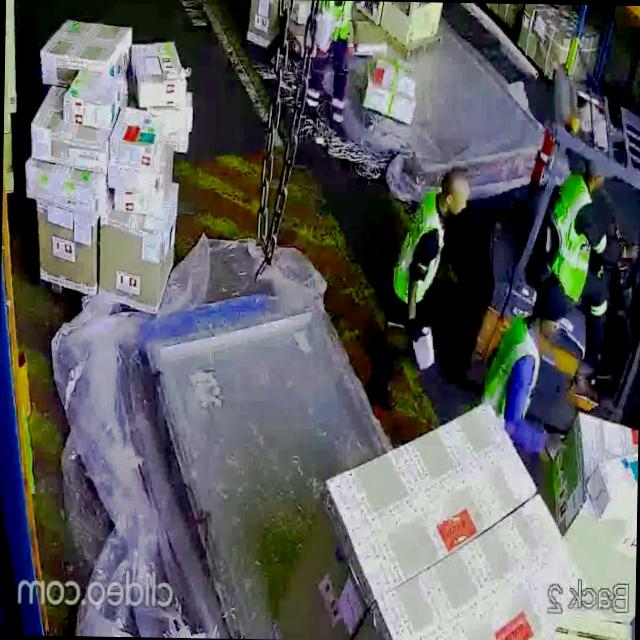Box: (96, 213, 177, 298), (36, 211, 98, 291), (42, 21, 130, 77), (356, 63, 418, 131), (107, 110, 167, 170), (137, 36, 188, 104), (26, 130, 97, 167), (25, 170, 97, 203), (70, 72, 116, 119)
